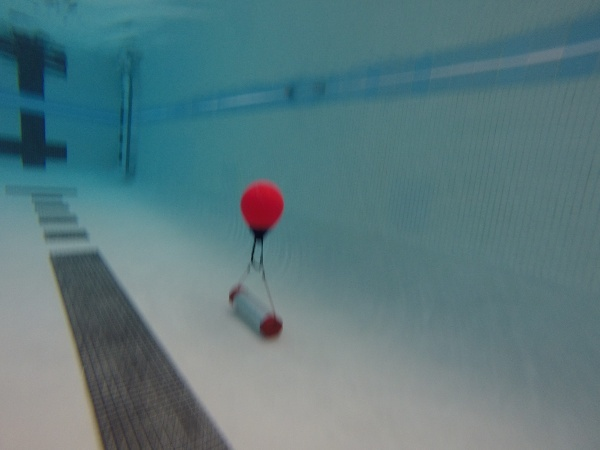buoy_red: (237, 181, 285, 240)
